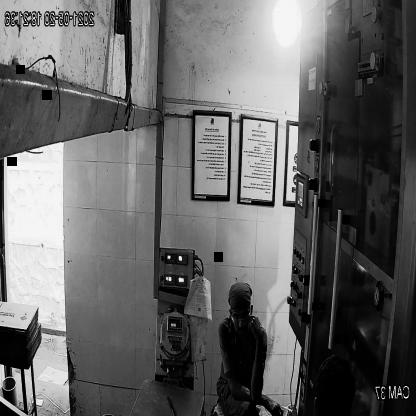goggles: (227, 306, 255, 326)
